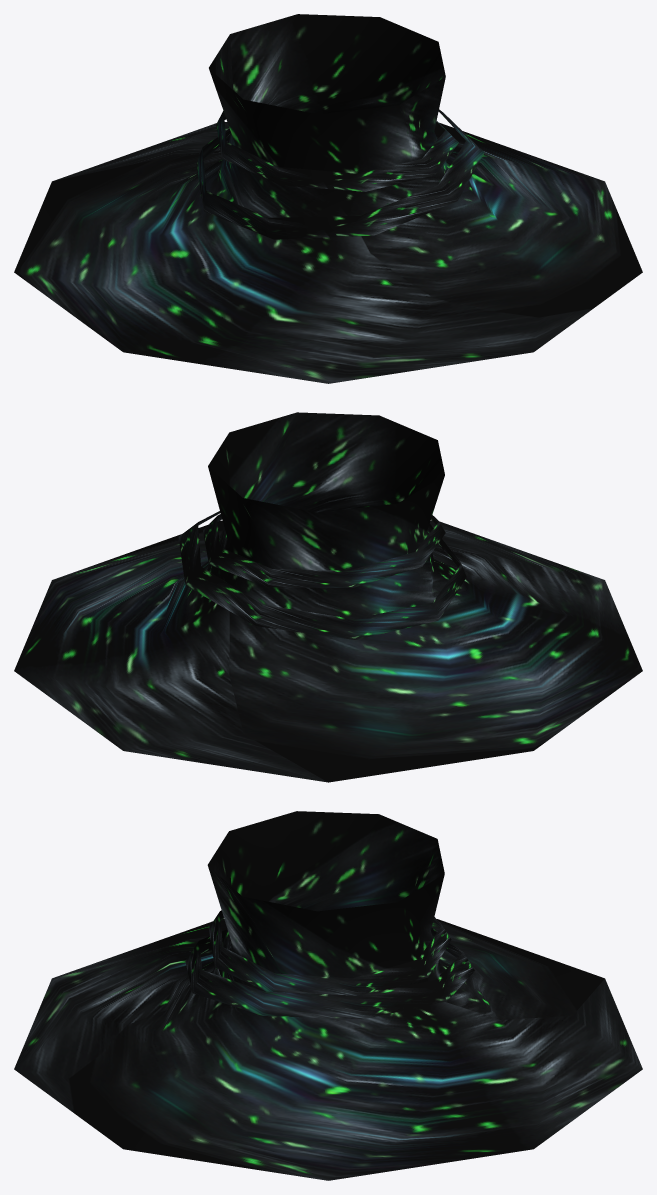
The model's file is outwind_001.FBX.
3 views of the same model, one above another, from view 1: azimuth 30°, elevation 25°; view 2: azimuth 150°, elevation 25°; view 3: azimuth 270°, elevation 25° (orthographic).
Parts seen in each view (by area): view 1: Cylinder001; view 2: Cylinder001; view 3: Cylinder001.
Boxes of the visible parts, x1,y1,x2,y2 form: Cylinder001: (14, 14, 642, 383); Cylinder001: (14, 412, 642, 782); Cylinder001: (14, 811, 642, 1180).
Size of the model in its own units: 58.92 by 19.48 by 59.83.
